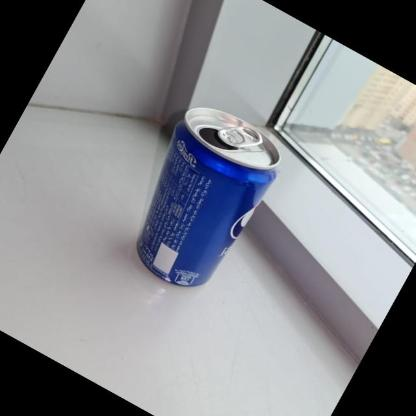Can: (136, 103, 282, 295)
